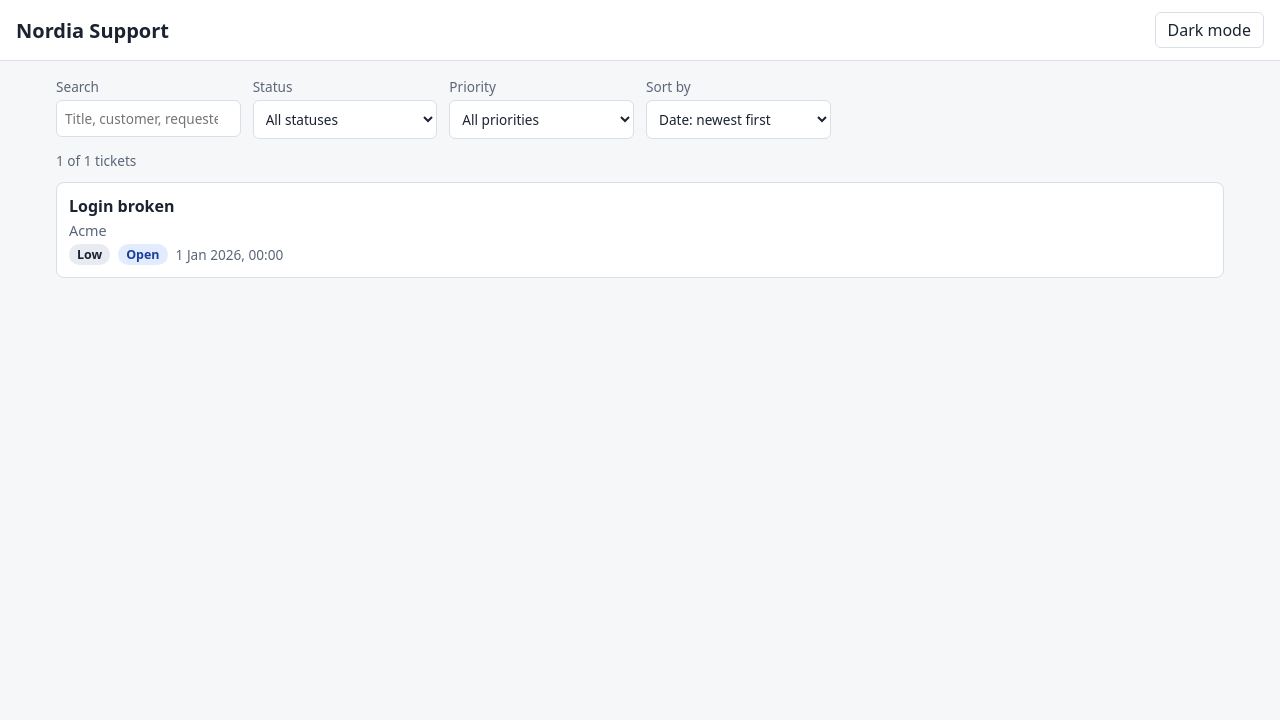
it: App components › rolls back the status and shows an error message when the API fails
This screenshot has width=1280, height=720.
Click the button "Login broken" at (122,206), box x1=56 y1=182 x2=1224 y2=278
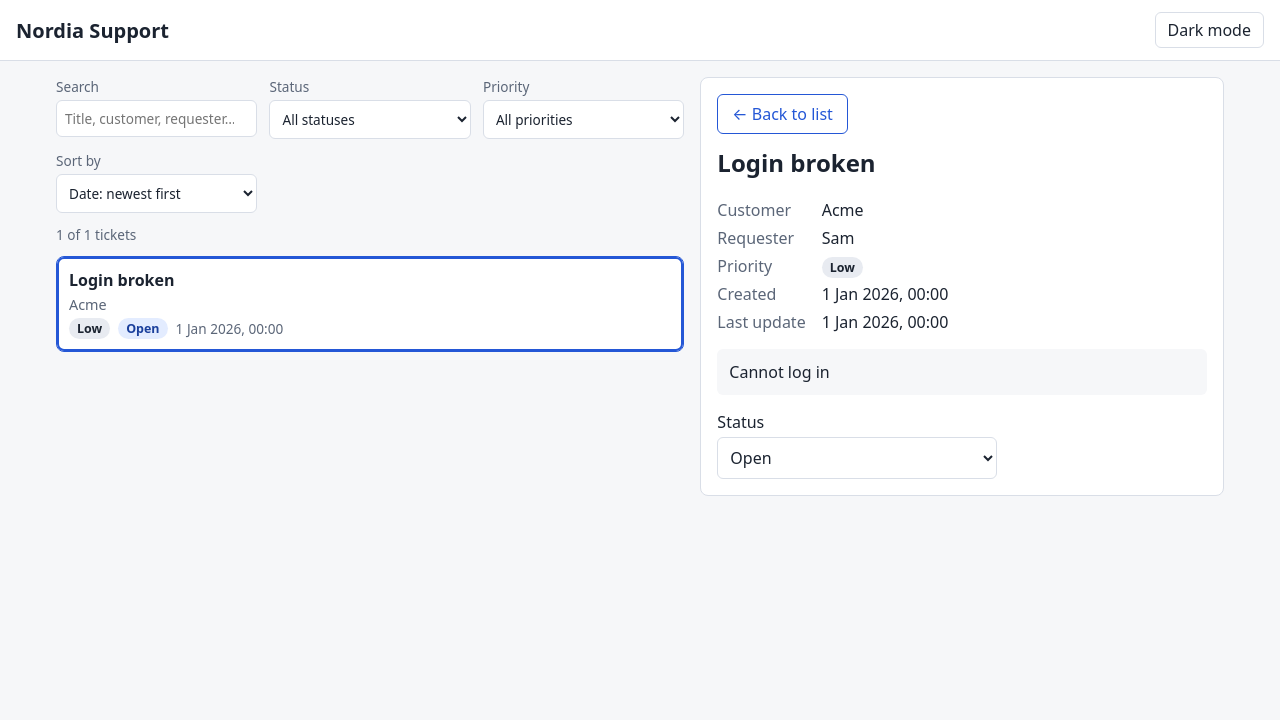
Select "Resolved" in the dropdown labelled "Status" below "Cannot log in" at (857,458), box x1=717 y1=437 x2=997 y2=479
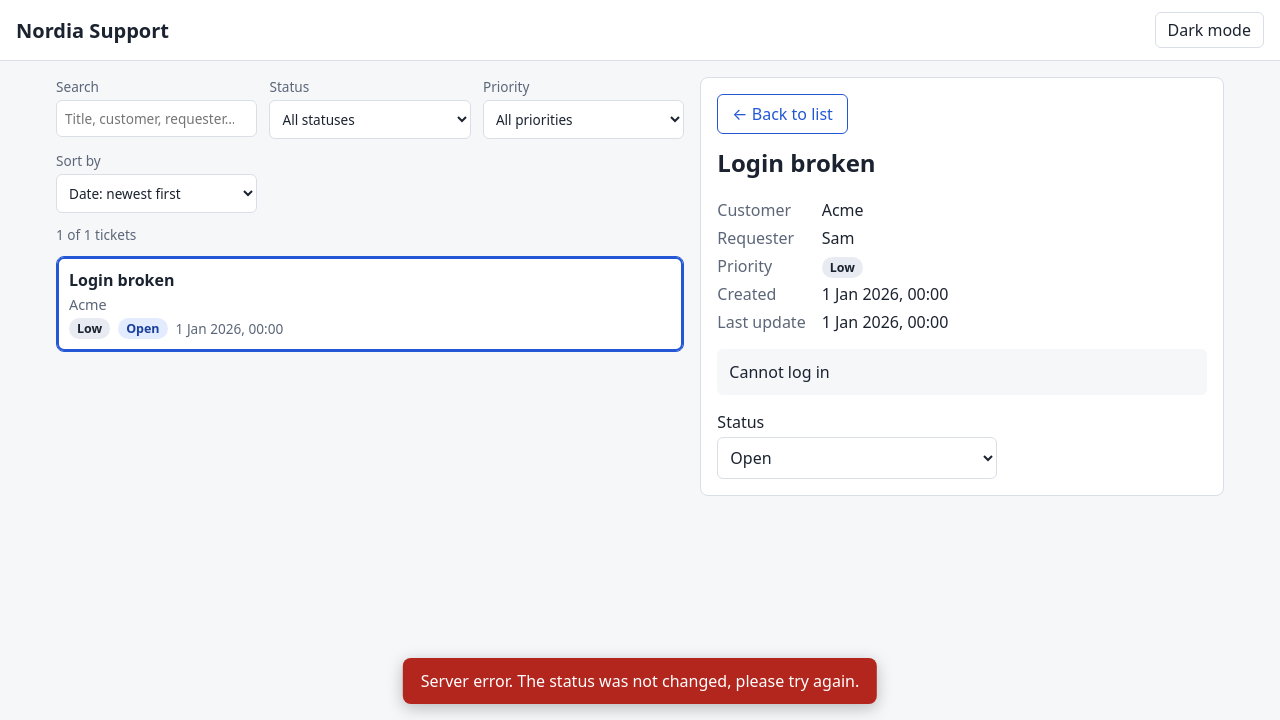
Expected: the message "Server error. The status was not changed, please try again." is shown, x1=403 y1=658 x2=877 y2=704
